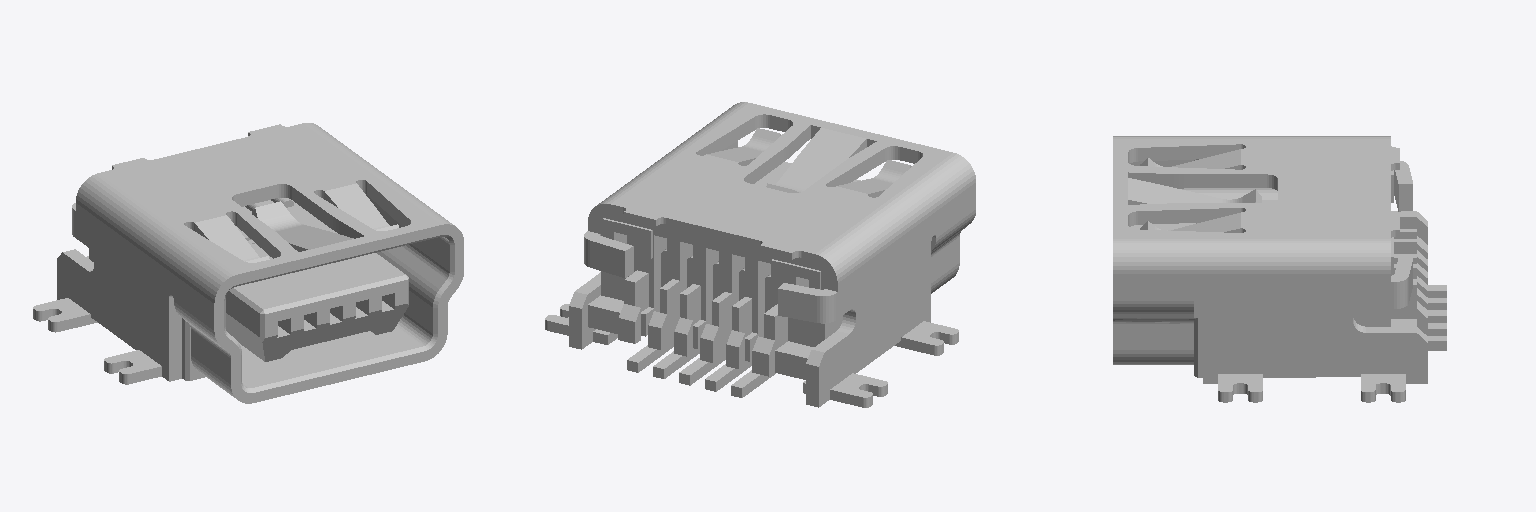
Rendered from USB_Mini_B_SMD_buchse.obj.
The picture shows the model from 3 angles: view 1: azimuth 30°, elevation 25°; view 2: azimuth 150°, elevation 25°; view 3: azimuth 270°, elevation 25°; orthographic projection.
Size of the model in its own units: 1 by 0.396 by 0.89.